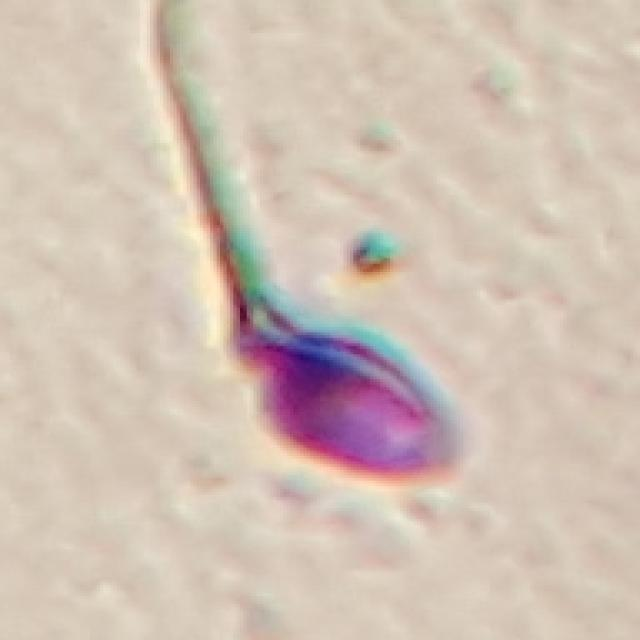normal sperm: (206, 190, 465, 483)
